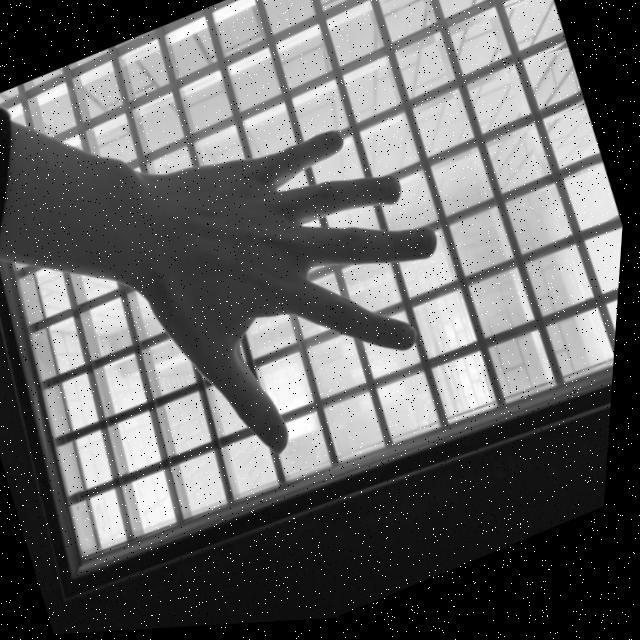no-gloves: (110, 89, 500, 492)
